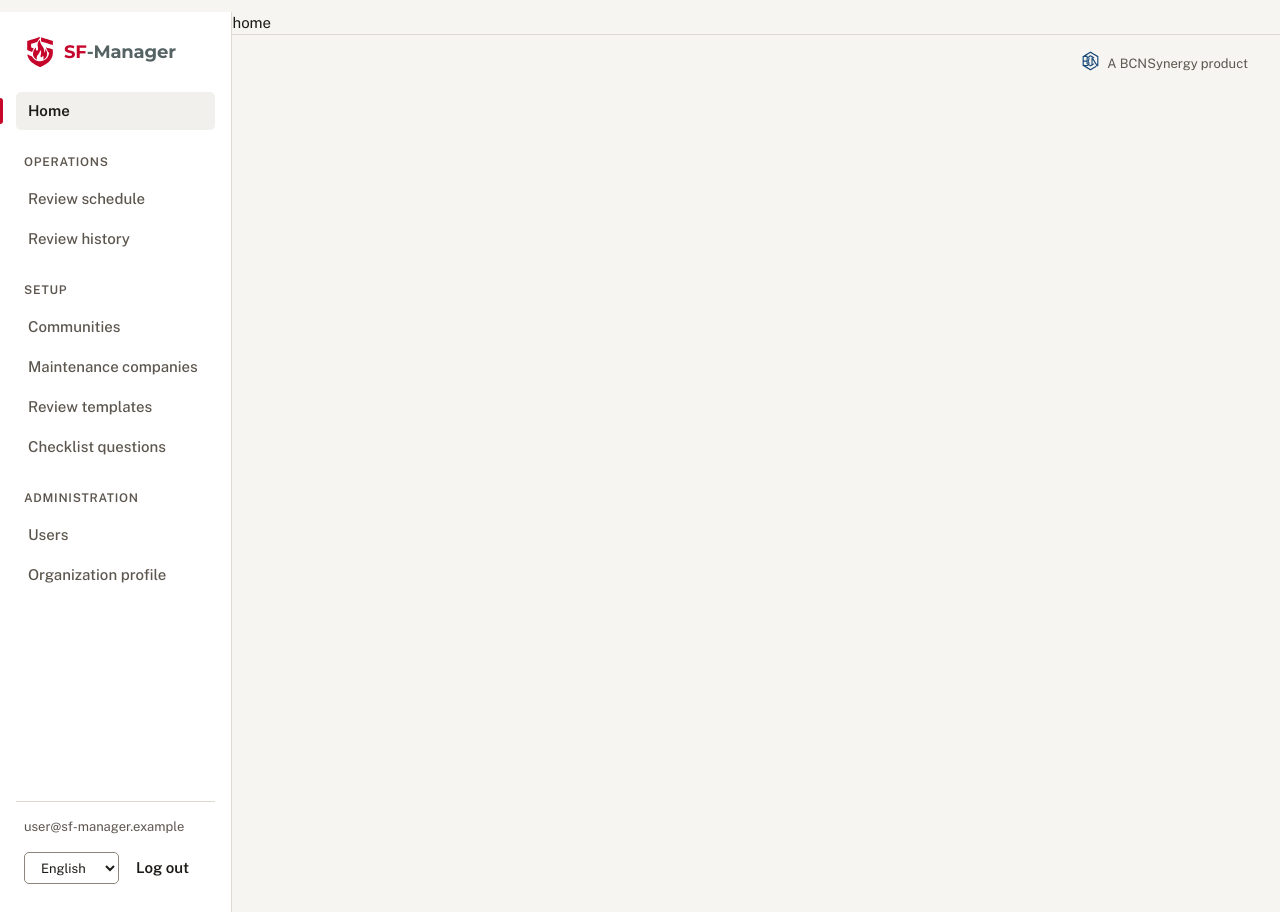
Scenario: AppLayout language selector › renders exactly one selector inside the nav and switches the nav language
This screenshot has width=1280, height=912.
Select "Español" in the dropdown at (72, 868), box 24,852 -> 119,884
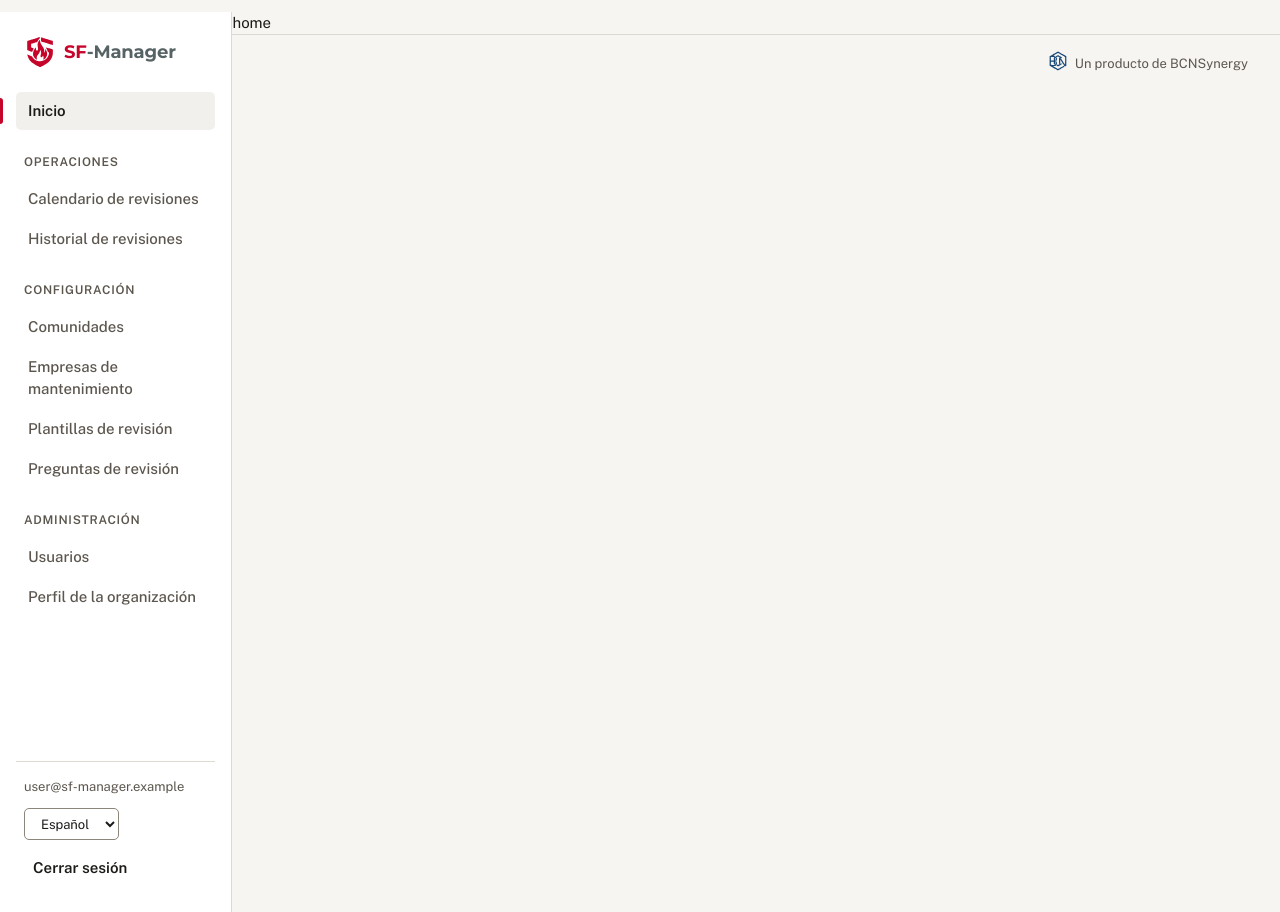
Expected: the link with test id "nav-link-home" reads "Inicio", 16,92 -> 216,130
